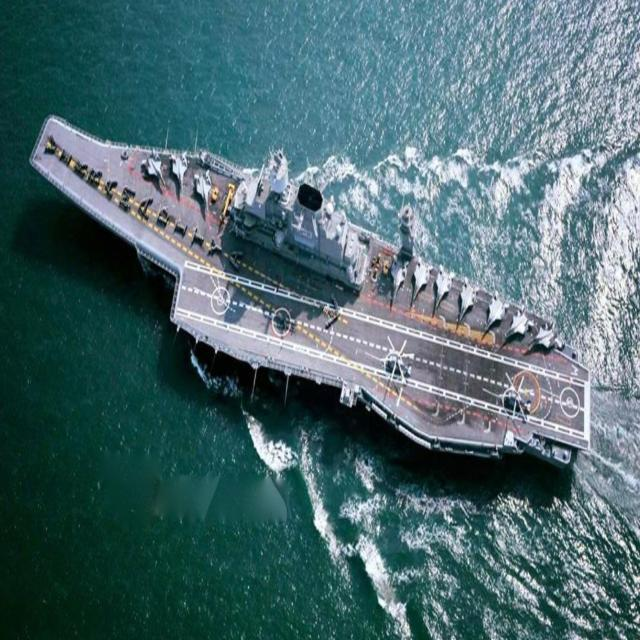Aircraft-Carrier-Vikrant-Class-IND: (23, 86, 604, 498)
